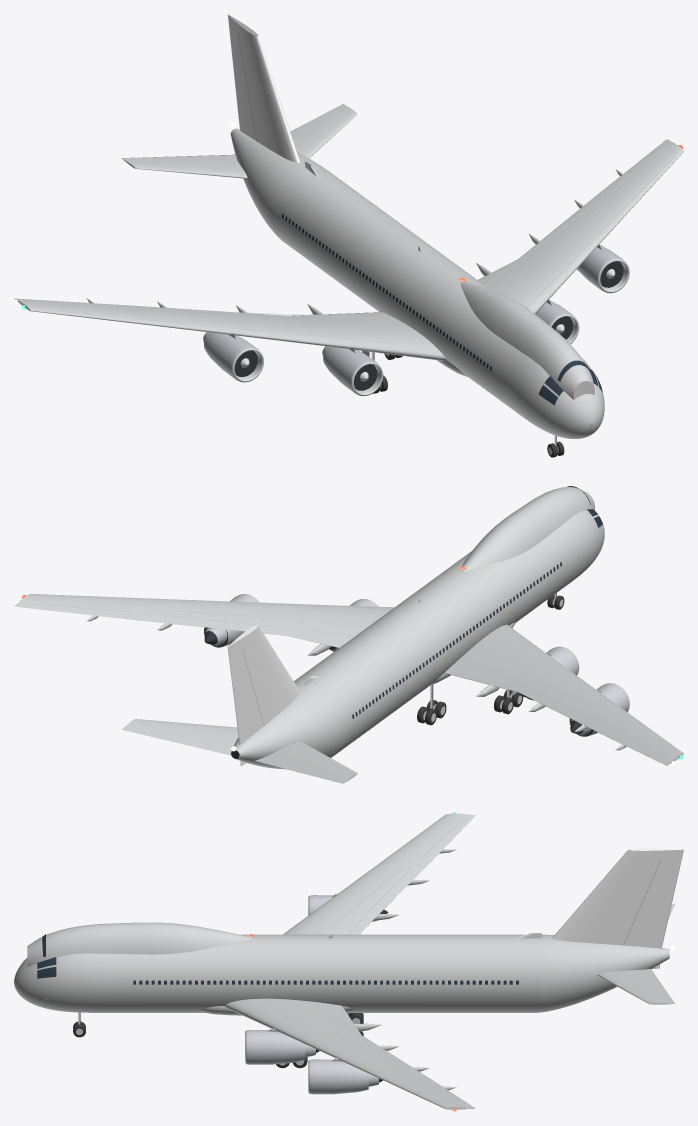
3 renders of one model, top to bottom at view 1: azimuth 30°, elevation 25°; view 2: azimuth 150°, elevation 25°; view 3: azimuth 270°, elevation 25°, orthographic. The views are drawn at different scales.
Parts seen in each view (by area): view 1: airframe; view 2: airframe, gear; view 3: airframe, gear.
Part boxes in pixels (x1,y1,x2,y2): airframe: (14,14,683,438); airframe: (14,486,683,783); gear: (417,593,564,725); airframe: (14,812,683,1111); gear: (73,1012,363,1068).
Bounding box in the file's own units: 60.27 × 17.58 × 57.52.
